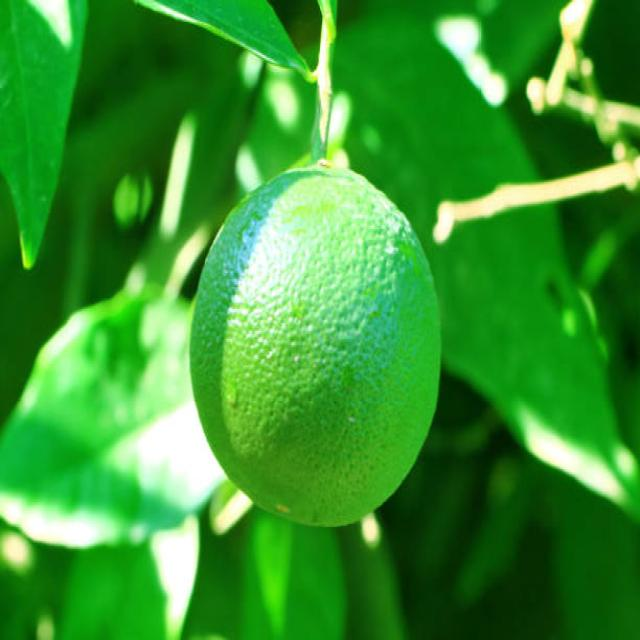Unripe: (192, 158, 443, 530)
